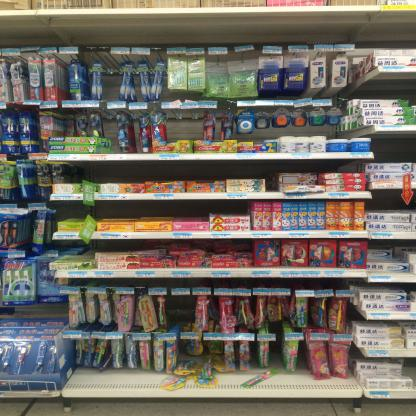Void: (77, 163, 263, 176), (77, 366, 156, 384), (372, 138, 412, 162), (366, 80, 412, 100), (164, 114, 200, 139), (370, 191, 402, 210), (168, 298, 187, 328), (269, 163, 277, 189)
